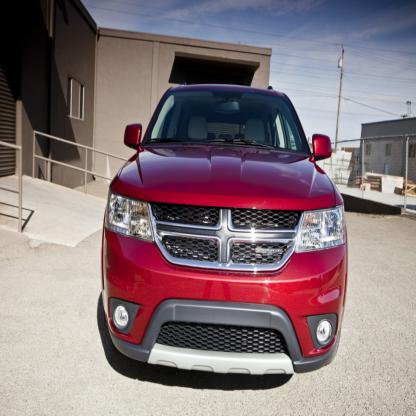Vehicle: (101, 86, 348, 380)
